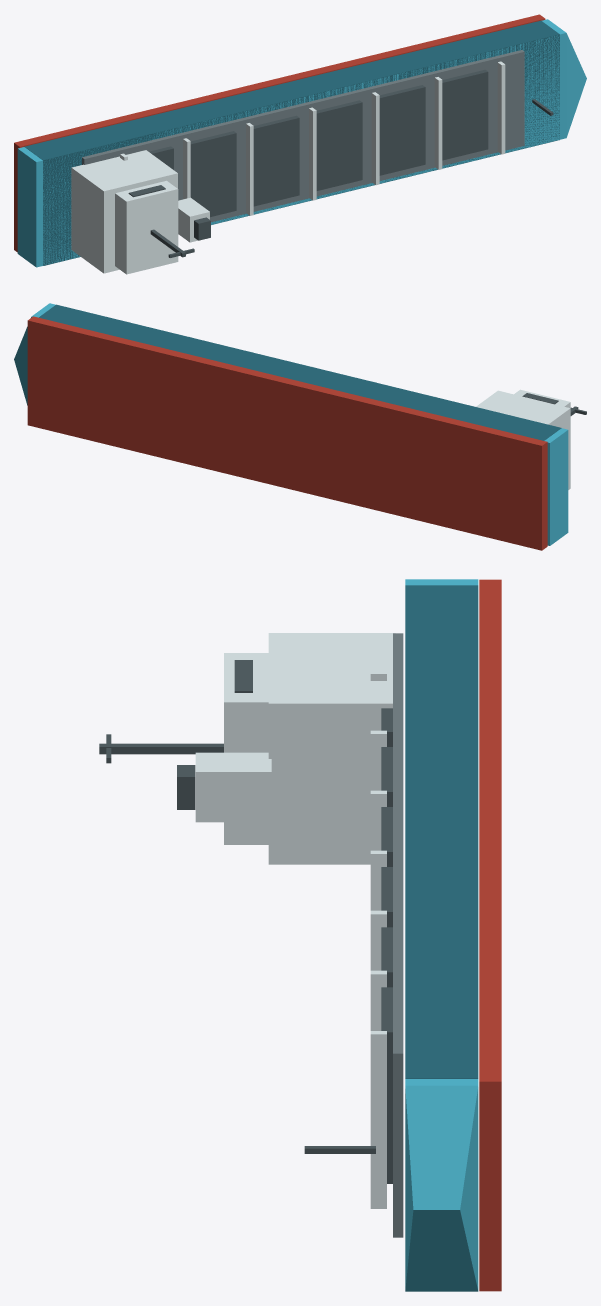
Rendered from bulk-carrier.glb.
3 views of the same model, one above another, from view 1: azimuth 30°, elevation 25°; view 2: azimuth 150°, elevation 25°; view 3: azimuth 270°, elevation 25° (orthographic). The views are drawn at different scales.
Visible parts, largest first — view 1: Hull, Bow, Deck, Superstructure, Bridge, Waterline, Hatch3, Hatch5, Hatch6, Hatch4, Hatch2, Funnel (+7 smaller); view 2: Waterline, Hull, Bow, Superstructure; view 3: Hull, Superstructure, Waterline, Bow, Deck, Funnel, Bridge, Coaming_6, Hatch6, Mast.
Part boxes in pixels (x1=…): Hull: x1=24, y1=20, x2=559, y2=265; Bow: x1=17, y1=19, x2=586, y2=267; Deck: x1=82, y1=50, x2=524, y2=222; Superstructure: x1=71, y1=150, x2=177, y2=273; Bridge: x1=115, y1=180, x2=178, y2=274; Waterline: x1=14, y1=14, x2=545, y2=252; Hatch3: x1=253, y1=115, x2=299, y2=206; Hatch5: x1=379, y1=85, x2=425, y2=175; Hatch6: x1=442, y1=69, x2=488, y2=160; Hatch4: x1=316, y1=100, x2=362, y2=190; Hatch2: x1=190, y1=131, x2=236, y2=217; Funnel: x1=178, y1=197, x2=209, y2=242; Waterline: x1=27, y1=316, x2=547, y2=550; Hull: x1=39, y1=304, x2=561, y2=440; Bow: x1=14, y1=303, x2=568, y2=545; Superstructure: x1=476, y1=390, x2=570, y2=489; Hull: x1=405, y1=585, x2=478, y2=1078; Superstructure: x1=268, y1=633, x2=395, y2=864; Waterline: x1=479, y1=579, x2=501, y2=1291; Bow: x1=405, y1=579, x2=478, y2=1291; Deck: x1=393, y1=633, x2=403, y2=1237; Funnel: x1=195, y1=752, x2=271, y2=822; Bridge: x1=224, y1=653, x2=268, y2=844; Coaming_6: x1=370, y1=1031, x2=386, y2=1208; Hatch6: x1=381, y1=987, x2=392, y2=1183; Mast: x1=99, y1=743, x2=223, y2=754.
Size of the model in its own units: 12.3 by 2.28 by 3.96.
